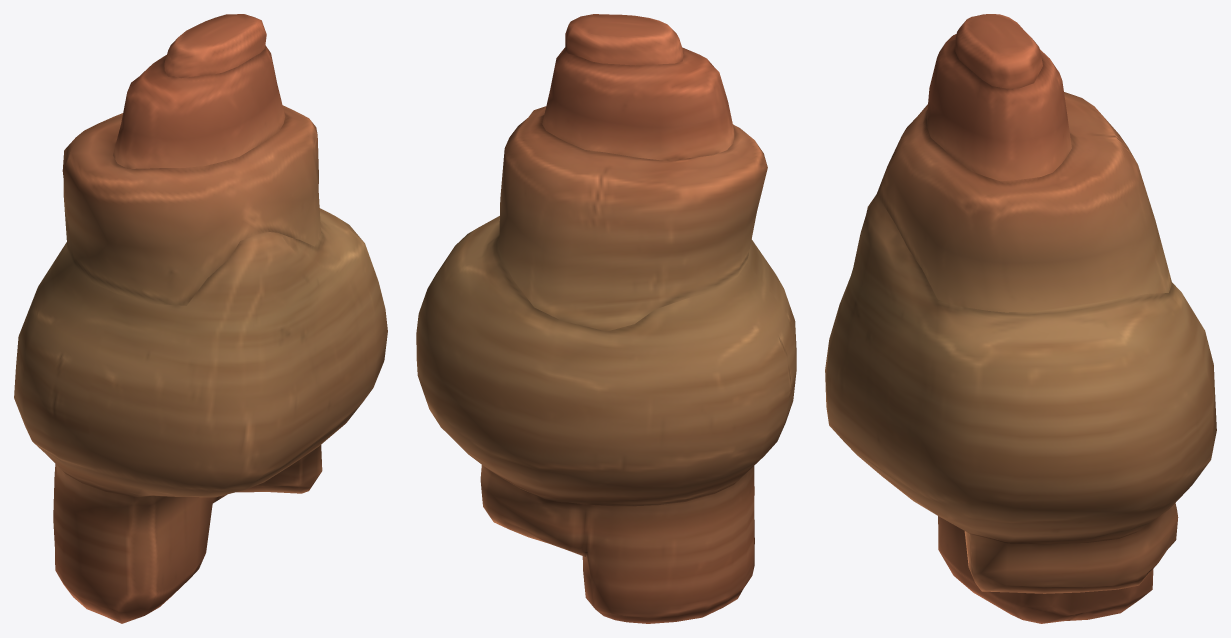
The model's file is Desert_Stone_3.fbx.
3 views of the same model, side by side, from view 1: azimuth 30°, elevation 25°; view 2: azimuth 150°, elevation 25°; view 3: azimuth 270°, elevation 25° (orthographic). The views are drawn at different scales.
Visible parts, largest first — view 1: Desert_Stone_3; view 2: Desert_Stone_3; view 3: Desert_Stone_3.
Part boxes in pixels (<box>): Desert_Stone_3: <box>14,14,387,623</box>; Desert_Stone_3: <box>416,14,796,623</box>; Desert_Stone_3: <box>825,14,1216,623</box>.
Bounding box in the file's own units: 519 × 814 × 478.
